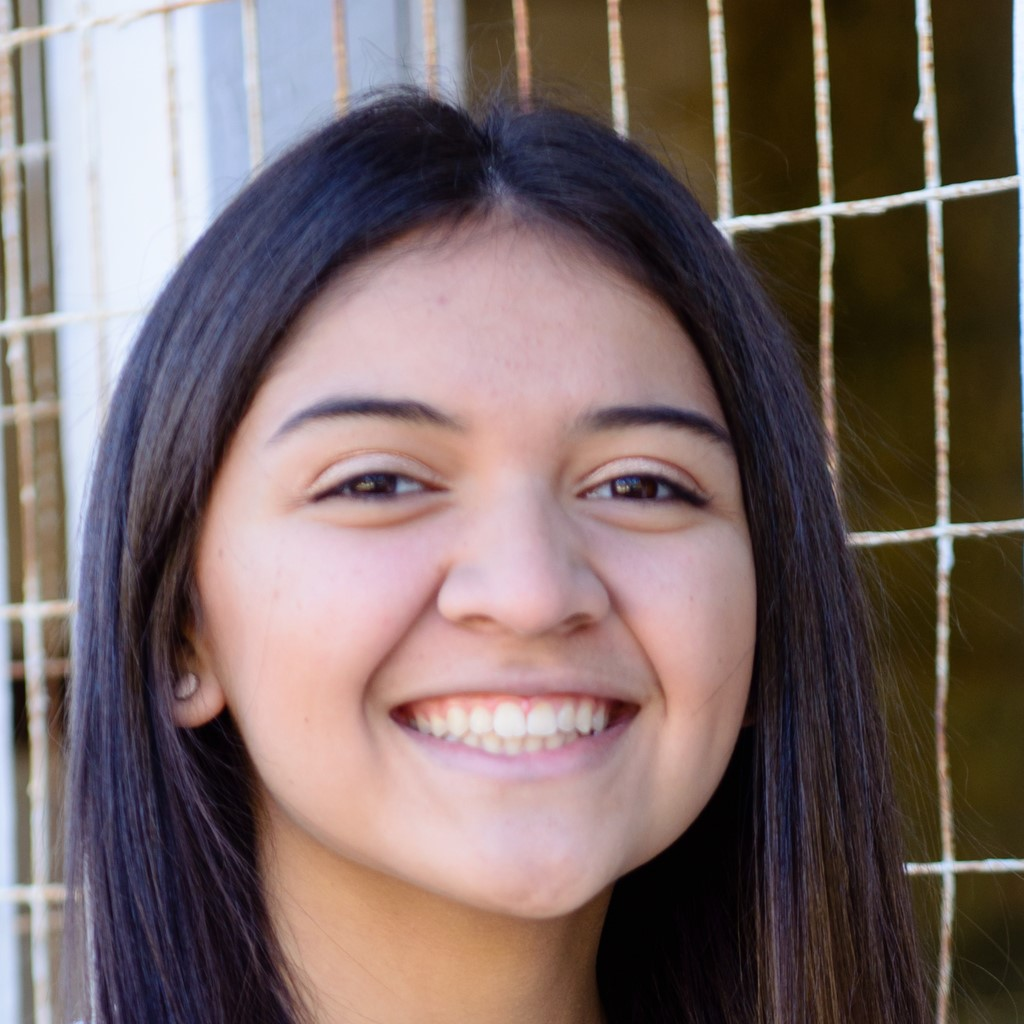sin_mascara: (181, 174, 762, 915)
